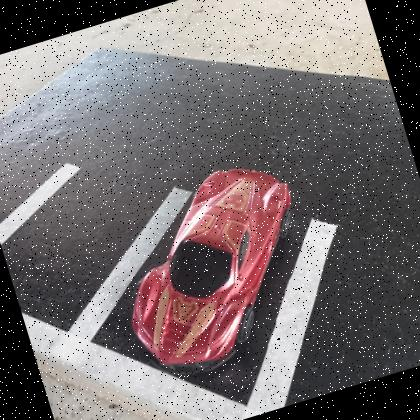Car: (131, 169, 292, 380)
